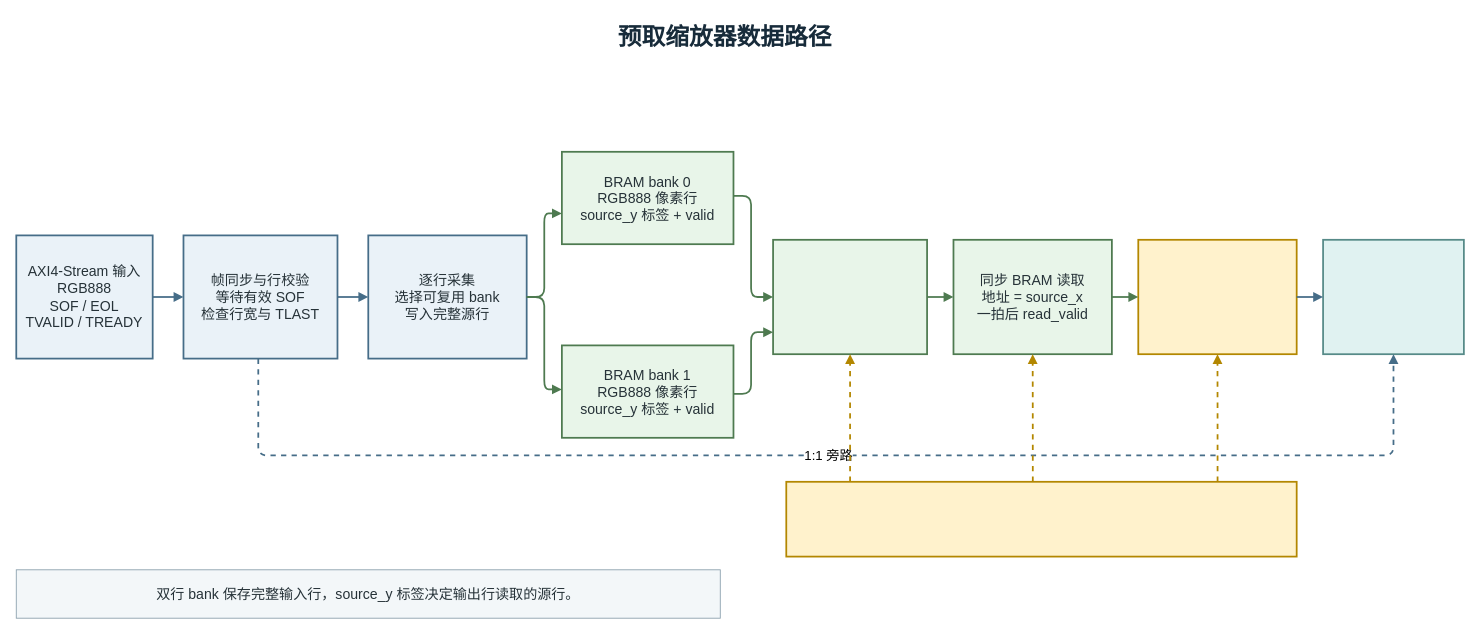
Some shapes in this 1479 by 634 pixel diagram are drawn without their labels. Each missing label, with the centre of its shape:
"AXI-Lite 几何 profile + X/Y DDA 输出坐标生成 source_x / source_y 活动窗口控制有效区" belongs at (x=1041, y=518).
"AXI4-Stream 输出 缩放或精确 1:1 直通 RGB888 / SOF / EOL" belongs at (x=1393, y=296).
"行标签匹配 line_y = source_y 选择有效 bank" belongs at (x=850, y=296).
"逐行活动窗口 有效区读取源像素 边框位置输出黑色" belongs at (x=1217, y=296).
